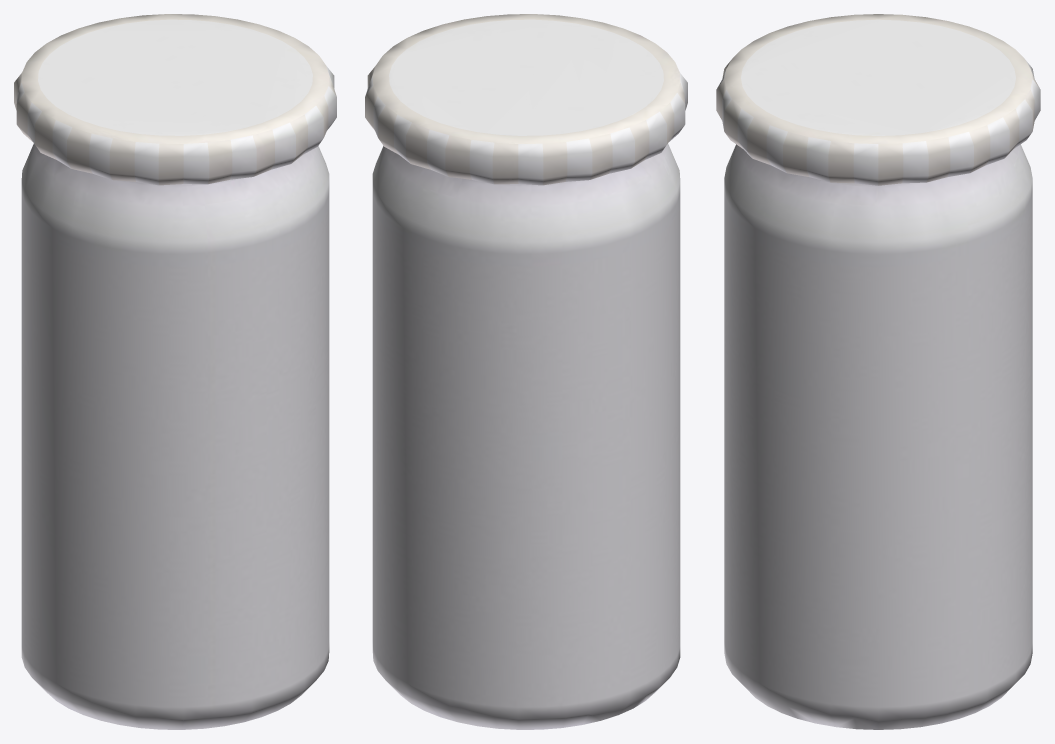
The model's file is kav2_2.glb.
3 renders of one model, left to right at view 1: azimuth 30°, elevation 25°; view 2: azimuth 150°, elevation 25°; view 3: azimuth 270°, elevation 25°, orthographic.
Visible parts, largest first — view 1: kav2_2; view 2: kav2_2; view 3: kav2_2.
Boxes of the visible parts, box(x1,y1,x2,y2) form: kav2_2: box(14, 14, 336, 729); kav2_2: box(365, 14, 687, 729); kav2_2: box(716, 14, 1040, 729).
Bounding box in the file's own units: 1.53 × 3.1 × 1.53.
1 material, 1 textured.
